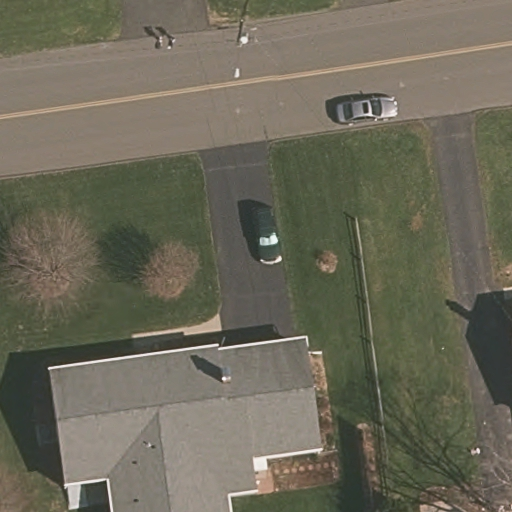DT: (231, 21, 255, 50)
